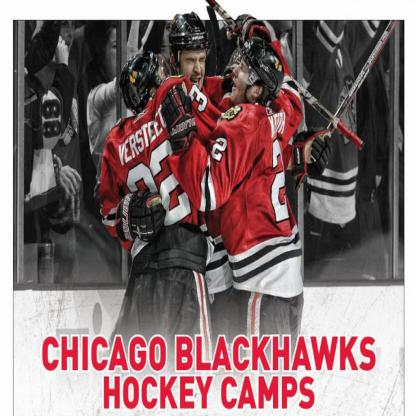face: (181, 43, 206, 91), (231, 58, 256, 102), (106, 30, 124, 75), (154, 21, 174, 59), (56, 22, 75, 58)
